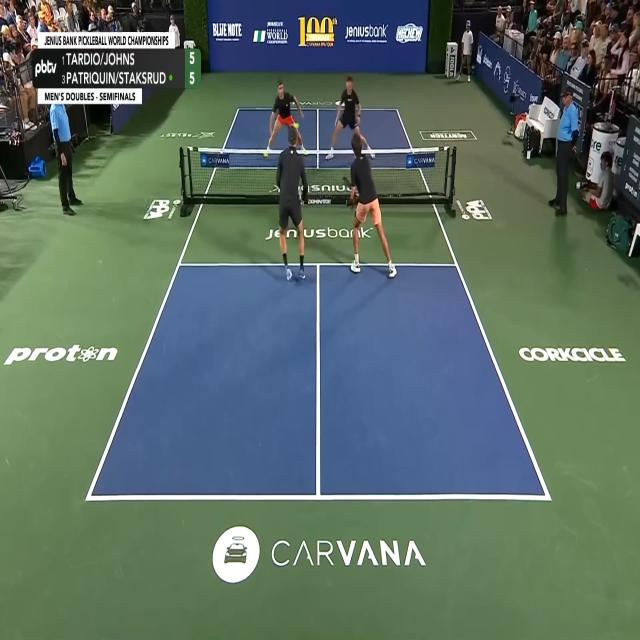ball: (293, 123, 299, 128)
